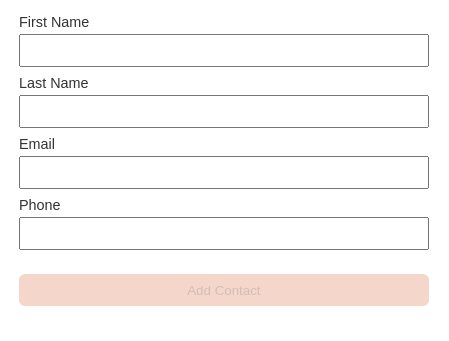
Test: MyForm component › Error displayed if email is incorrect format
In the field labelled "First Name": [224, 50] box [19, 34, 429, 67], type "Patrick"
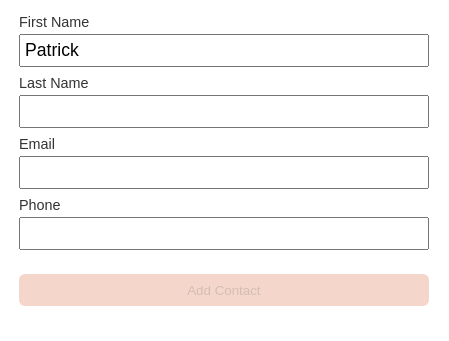
In the field labelled "Last Name": [224, 112] box [19, 95, 429, 128], type "McCullough"
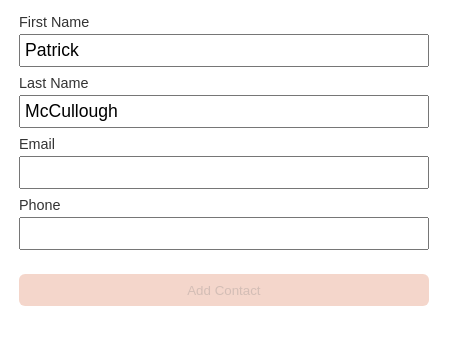
In the field labelled "Email": [224, 172] box [19, 156, 429, 189], type "pmccullough@"
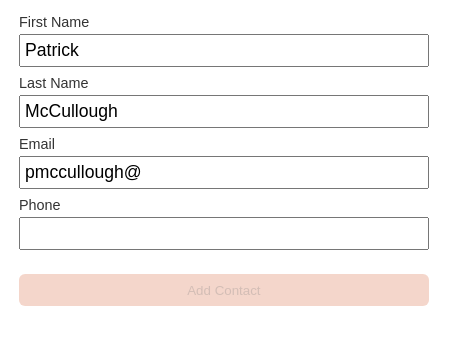
In the field labelled "Phone": [224, 234] box [19, 217, 429, 250], type "(917) 224-2246"
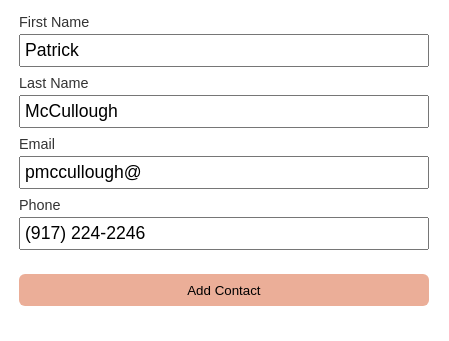
Click the button "Add Contact": [224, 290] box [19, 274, 429, 306]
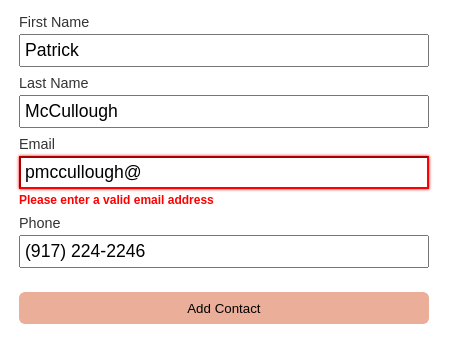
Expected: the text "Please enter a valid email address" is shown, [19, 193, 214, 207]
